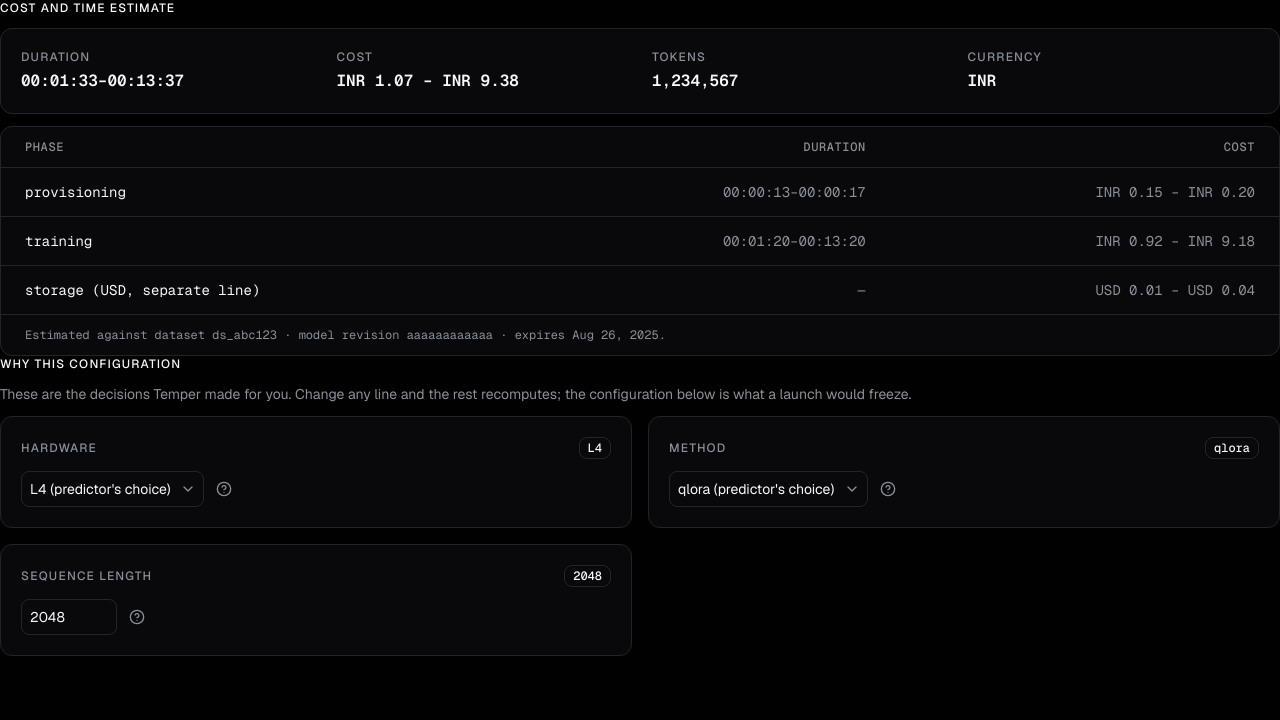
Scenario: QuoteView › keeps the card to label, value and control with the reason behind a '?'
This screenshot has width=1280, height=720.
Check: the heading "method" is shown, box left=669, top=440, right=726, bottom=456
Check: the dropdown named "method override" is shown, box left=669, top=471, right=868, bottom=507
Click the button named "About the method decision": (888, 489) left=876, top=477, right=900, bottom=501
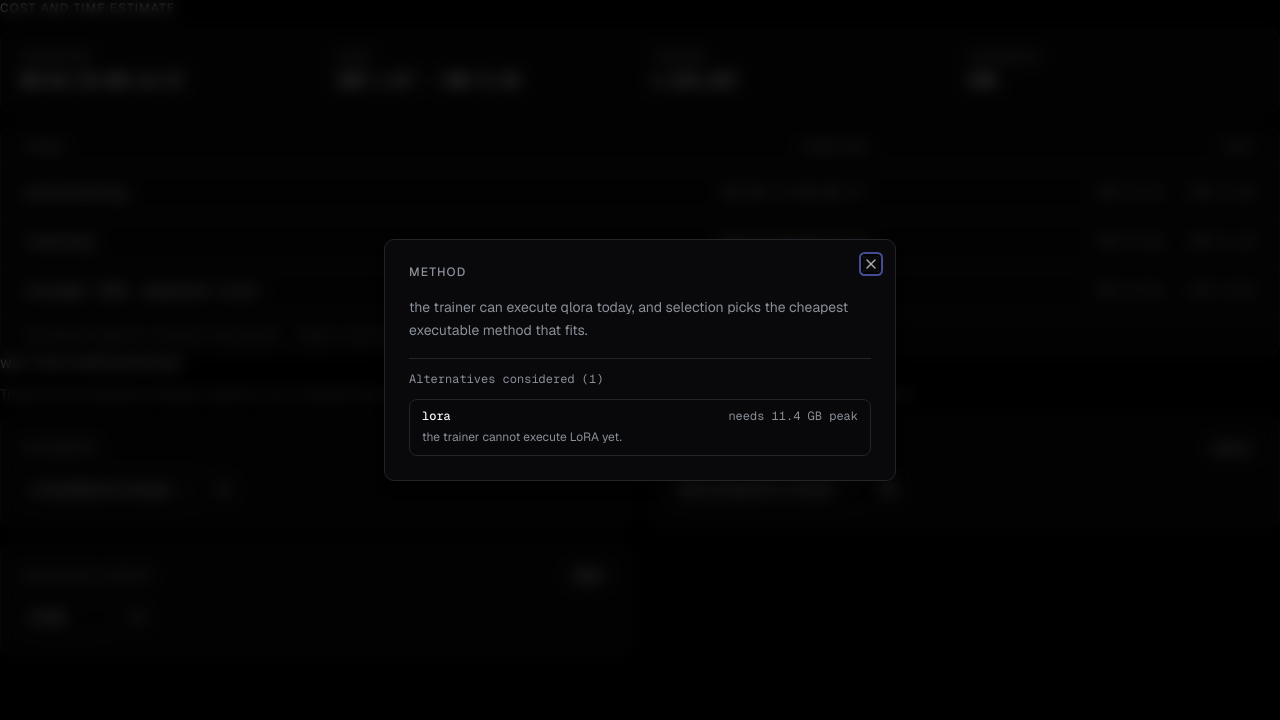
Check: the text "cheapest executable method" is shown, box left=409, top=298, right=848, bottom=339
Check: the text "Alternatives considered (1)" is shown, box left=409, top=370, right=603, bottom=386
Check: the text "lora" is shown, box left=422, top=408, right=451, bottom=424
